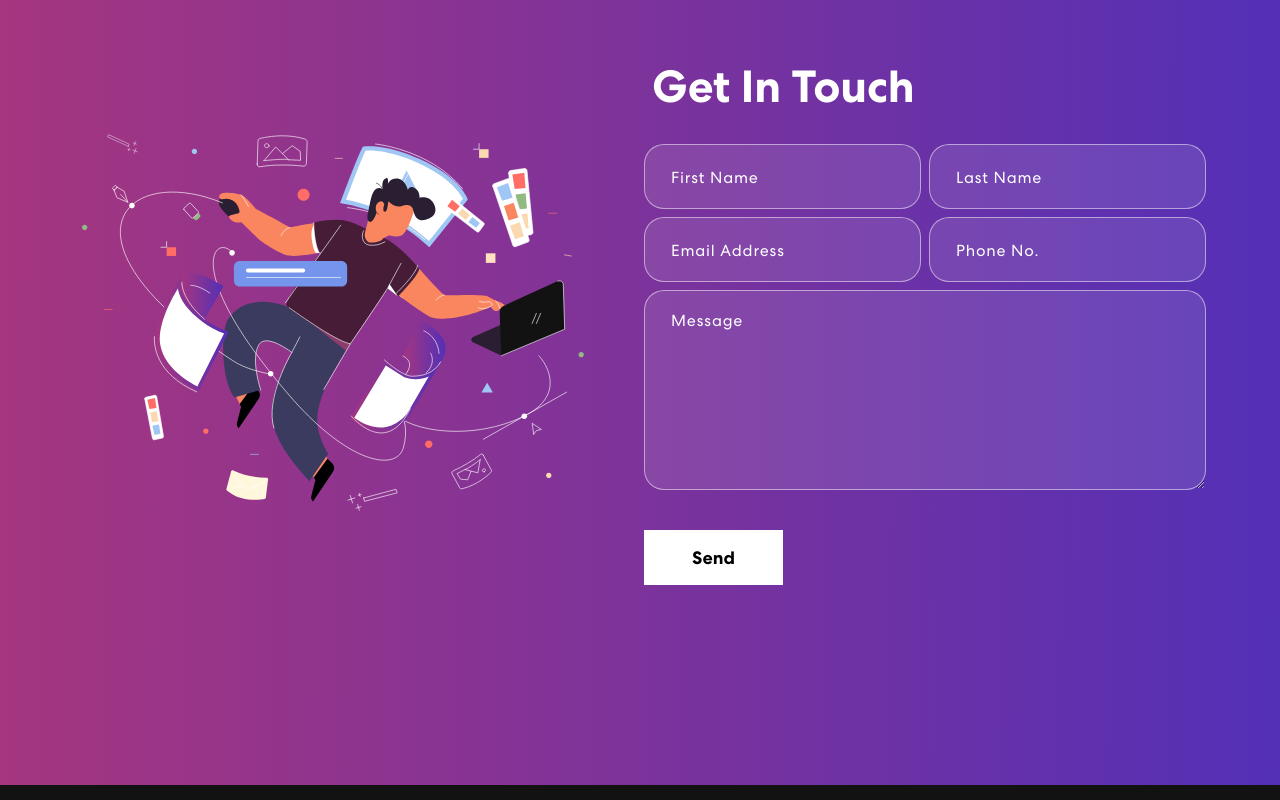
form fields reset after a submission
Type "Rasim" into the field with placeholder "First Name" at (782, 176), box [644, 144, 921, 209]
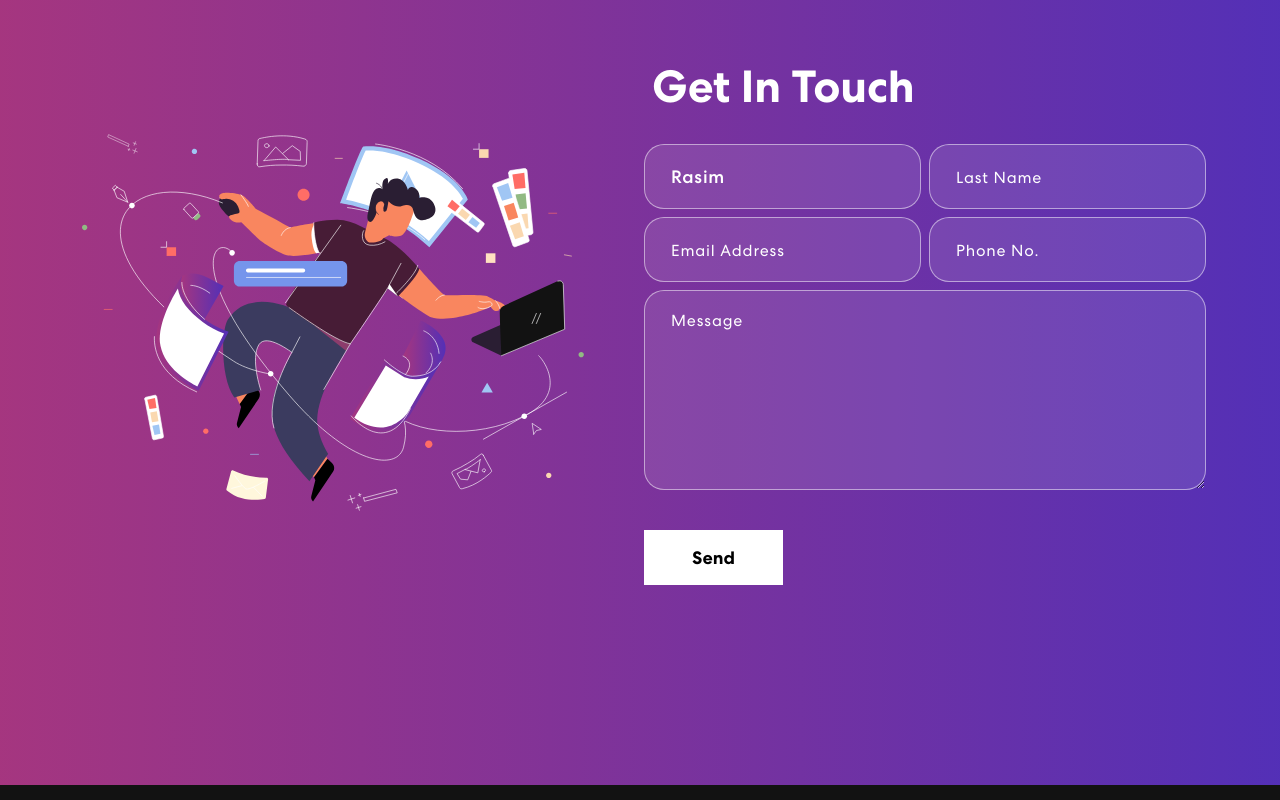
Click the button "Send" at (714, 558), box [644, 530, 783, 585]
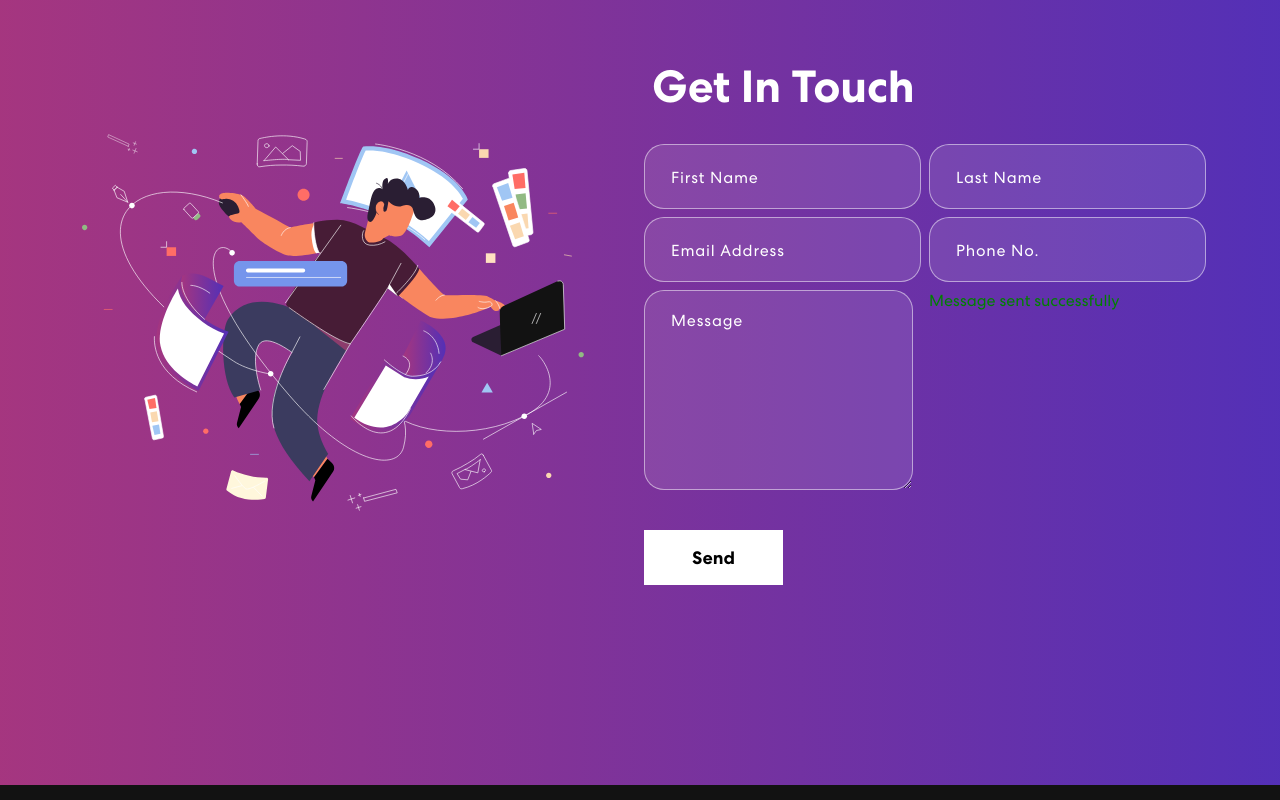
Now the field with placeholder "First Name" is empty, box [644, 144, 921, 209]
